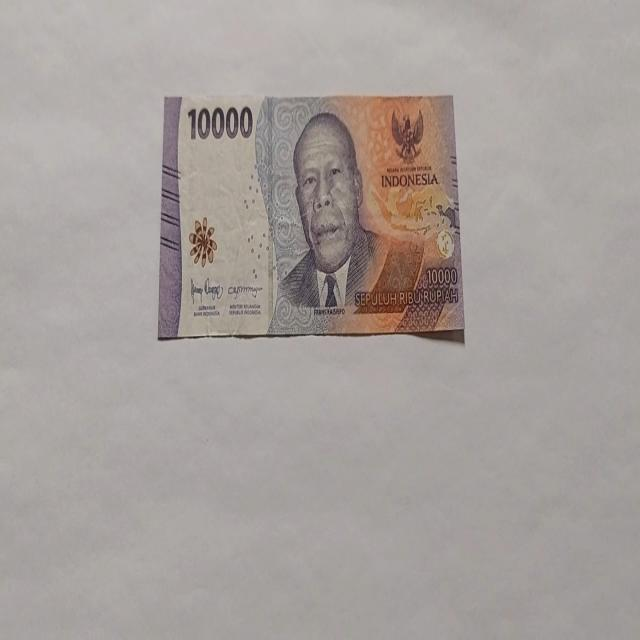sepuluh ribu rupiah: (157, 91, 465, 342), (264, 109, 424, 334)
